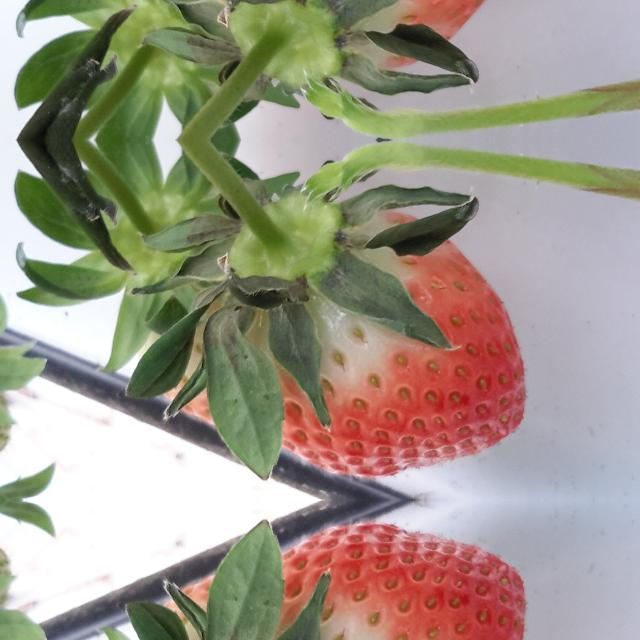Health_100: (246, 209, 528, 477), (246, 523, 528, 640), (246, 0, 528, 71)
